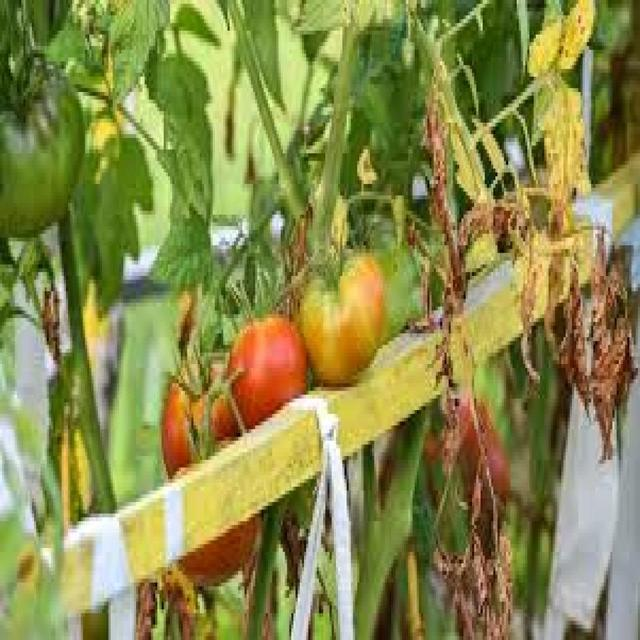Spotted wilt Virus Fruit: (51, 73, 227, 267)
